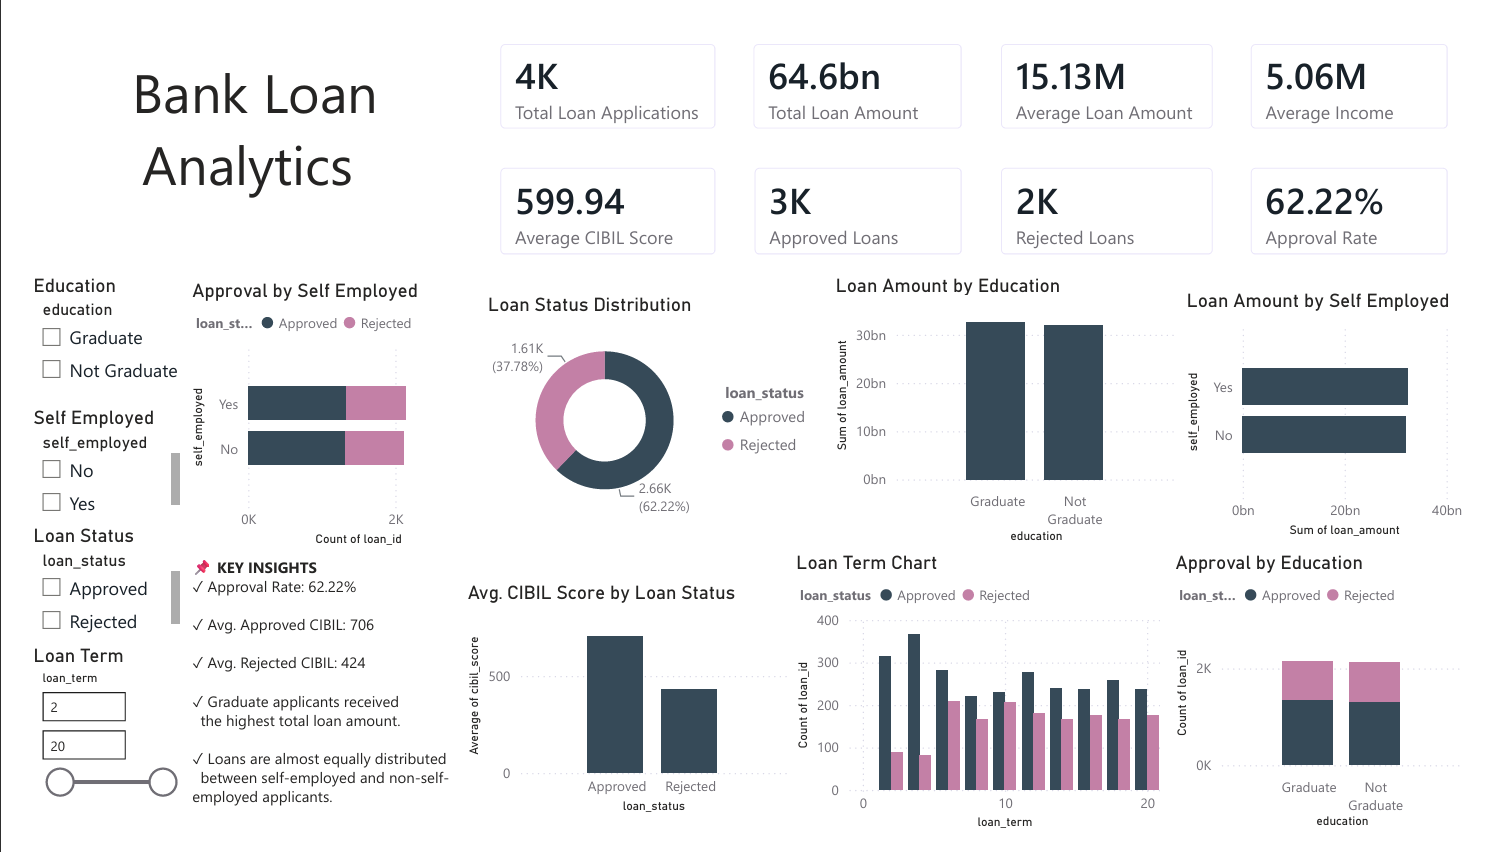

What the dashboard file says about the page in this screenshot:
{"tool":"powerbi","page":{"name":"Page 1","canvas":[1280,720],"ordinal":0},"visuals":[{"type":"cardVisual","fields":{"Data":["Sheet1.Total Loan Applications"]},"box":[403.4,0,225,109.8],"z":0},{"type":"cardVisual","fields":{"Data":["Sheet1.Total Loan Amount"]},"box":[628.5,0,219.6,109.8],"z":1000},{"type":"cardVisual","fields":{"Data":["Sheet1.Average Loan Amount"]},"box":[848,0,222.3,109.8],"z":2000},{"type":"cardVisual","fields":{"Data":["Sheet1.Average Income"]},"box":[1070.3,0,209.9,109.8],"z":3000},{"type":"cardVisual","fields":{"Data":["Sheet1.Average CIBIL Score"]},"box":[403.4,109.8,225,111.1],"z":4000},{"type":"cardVisual","fields":{"Data":["Sheet1.Approved Loans"]},"box":[628.8,110,218.8,111.2],"z":5000},{"type":"cardVisual","fields":{"Data":["Sheet1.Rejected Loans"]},"box":[847.5,110,222.5,111.2],"z":6000},{"type":"cardVisual","fields":{"Data":["Sheet1.Approval Rate"]},"box":[1070.3,109.8,209.9,111.1],"z":7000},{"type":"donutChart","title":"Loan Status Distribution","fields":{"Category":["Sheet1. loan_status"],"Y":["CountNonNull(Sheet1.loan_id)"]},"box":[403.8,237.5,308.8,208.8],"z":8000},{"type":"clusteredColumnChart","title":"Loan Amount by Education","fields":{"Category":["Sheet1. education"],"Y":["Sum(Sheet1. loan_amount)"]},"box":[712.5,221.2,312.5,243.8],"z":9000},{"type":"clusteredBarChart","title":"Loan Amount by Self Employed","fields":{"Category":["Sheet1. self_employed"],"Y":["Sum(Sheet1. loan_amount)"]},"box":[1025,235,255,225],"z":10000},{"type":"clusteredColumnChart","title":"Avg. CIBIL Score by Loan Status","fields":{"Category":["Sheet1. loan_status"],"Y":["Avg(Sheet1. cibil_score)"]},"box":[386.2,493.8,292.5,211.2],"z":11000},{"type":"clusteredColumnChart","title":"Loan Term Chart","fields":{"Category":["Sheet1. loan_term"],"Series":["Sheet1. loan_status"],"Y":["CountNonNull(Sheet1.loan_id)"]},"box":[677.5,467.5,333.8,252.5],"z":12000},{"type":"columnChart","title":"Approval by Education","fields":{"Category":["Sheet1. education"],"Series":["Sheet1. loan_status"],"Y":["CountNonNull(Sheet1.loan_id)"]},"box":[1015,467.5,265,251.2],"z":14000},{"type":"barChart","title":"Approval by Self Employed","fields":{"Category":["Sheet1. self_employed"],"Series":["Sheet1. loan_status"],"Y":["CountNonNull(Sheet1.loan_id)"]},"box":[141.2,226.2,262.5,241.2],"z":14001},{"type":"slicer","title":"Education","fields":{"Values":["Sheet1. education"]},"box":[0,221.2,141.2,116.2],"z":14002},{"type":"slicer","title":"Self Employed","fields":{"Values":["Sheet1. self_employed"]},"box":[0,338.8,141.2,105],"z":14003},{"type":"slicer","title":"Loan Status","fields":{"Values":["Sheet1. loan_status"]},"box":[0,443.8,141.2,106.2],"z":14004},{"type":"slicer","title":"Loan Term","fields":{"Values":["Sheet1. loan_term"]},"box":[0,550,141.2,155],"z":14005},{"type":"textbox","box":[0,21.2,403.8,163.8],"z":14006},{"type":"textbox","box":[141.2,467.5,245,251.2],"z":14007}]}

Visuals, with their boxes in screenshot pixels (x1, y1, x2, y2), scaled from the page's 1280x720 canvas onto the 1490x852 screenshot:
cardVisual - Sheet1.Total Loan Applications: <region>470, 0, 731, 130</region>
cardVisual - Sheet1.Total Loan Amount: <region>732, 0, 987, 130</region>
cardVisual - Sheet1.Average Loan Amount: <region>987, 0, 1246, 130</region>
cardVisual - Sheet1.Average Income: <region>1246, 0, 1489, 130</region>
cardVisual - Sheet1.Average CIBIL Score: <region>470, 130, 731, 261</region>
cardVisual - Sheet1.Approved Loans: <region>732, 130, 987, 262</region>
cardVisual - Sheet1.Rejected Loans: <region>987, 130, 1246, 262</region>
cardVisual - Sheet1.Approval Rate: <region>1246, 130, 1489, 261</region>
"Loan Status Distribution" donutChart: <region>470, 281, 830, 528</region>
"Loan Amount by Education" clusteredColumnChart: <region>829, 262, 1193, 550</region>
"Loan Amount by Self Employed" clusteredBarChart: <region>1193, 278, 1489, 544</region>
"Avg. CIBIL Score by Loan Status" clusteredColumnChart: <region>450, 584, 790, 834</region>
"Loan Term Chart" clusteredColumnChart: <region>789, 553, 1177, 851</region>
"Approval by Education" columnChart: <region>1182, 553, 1489, 850</region>
"Approval by Self Employed" barChart: <region>164, 268, 470, 553</region>
"Education" slicer: <region>0, 262, 164, 399</region>
"Self Employed" slicer: <region>0, 401, 164, 525</region>
"Loan Status" slicer: <region>0, 525, 164, 651</region>
"Loan Term" slicer: <region>0, 651, 164, 834</region>
textbox: <region>0, 25, 470, 219</region>
textbox: <region>164, 553, 450, 850</region>
